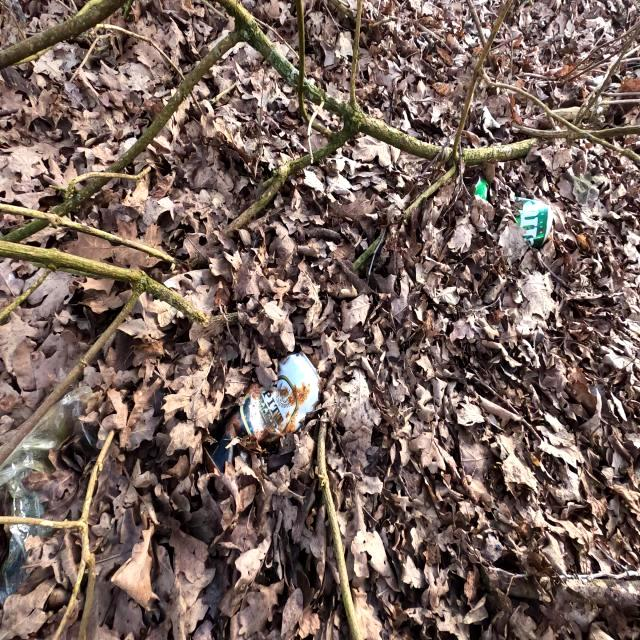Metal: (200, 346, 324, 479), (471, 171, 553, 251)
